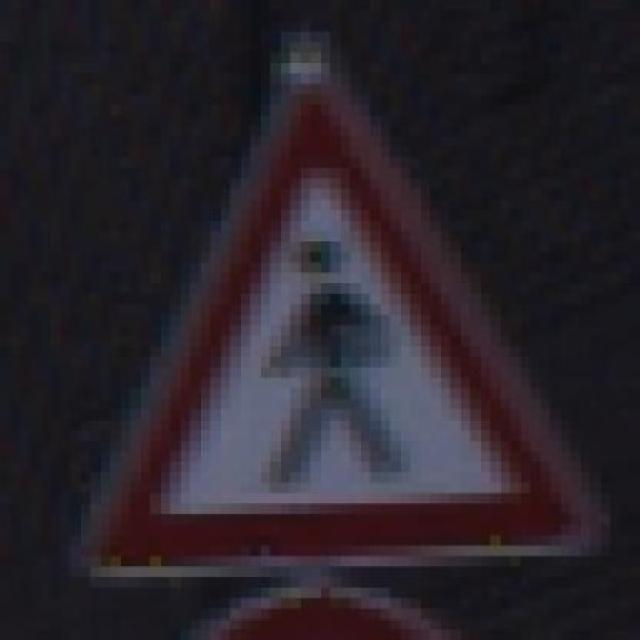Pedestrian Crossing: (60, 63, 611, 577)
